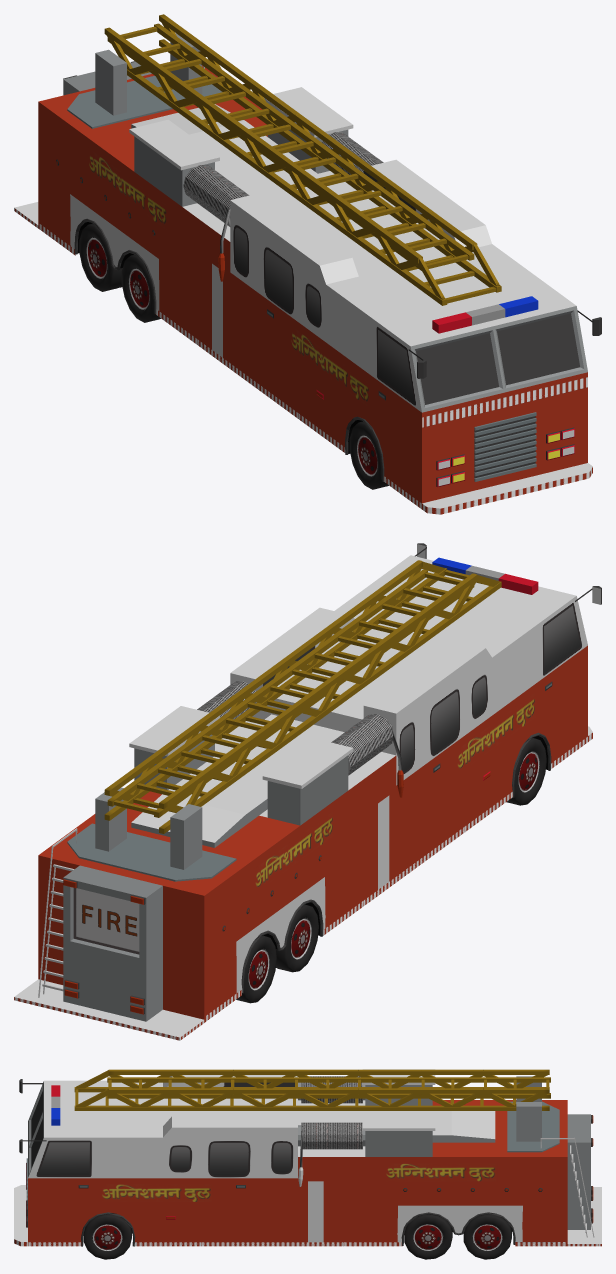
Rendered from Fire_Truck_004.FBX.
The picture shows the model from 3 angles, top to bottom: view 1: azimuth 30°, elevation 25°; view 2: azimuth 150°, elevation 25°; view 3: azimuth 270°, elevation 25°; orthographic projection. The views are drawn at different scales.
Parts seen in each view (by area): view 1: Fire_Truck_004, Fire_Truck_004_W_RR2, Fire_Truck_004_W_RR1, Fire_Truck_004_W_FR; view 2: Fire_Truck_004, Fire_Truck_004_W_RR1, Fire_Truck_004_W_RR2, Fire_Truck_004_W_FR; view 3: Fire_Truck_004, Fire_Truck_004_W_FL, Fire_Truck_004_W_RL2, Fire_Truck_004_W_RL1.
Boxes of the visible parts, x1,y1,x2,y2 form: Fire_Truck_004: [14, 14, 601, 514]; Fire_Truck_004_W_RR2: [79, 223, 122, 291]; Fire_Truck_004_W_RR1: [121, 254, 160, 322]; Fire_Truck_004_W_FR: [349, 421, 388, 489]; Fire_Truck_004: [14, 543, 601, 1040]; Fire_Truck_004_W_RR1: [275, 904, 318, 972]; Fire_Truck_004_W_RR2: [236, 935, 276, 1003]; Fire_Truck_004_W_FR: [506, 738, 546, 805]; Fire_Truck_004: [14, 1069, 601, 1246]; Fire_Truck_004_W_FL: [83, 1214, 131, 1259]; Fire_Truck_004_W_RL2: [463, 1214, 511, 1259]; Fire_Truck_004_W_RL1: [404, 1214, 452, 1259].
Size of the model in its own units: 96.02 by 108 by 377.
